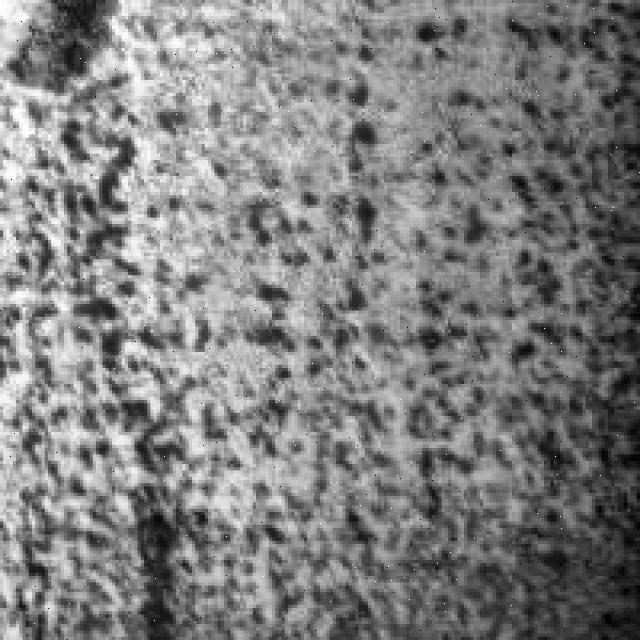Rolled_in_Scale: (6, 10, 628, 628)
